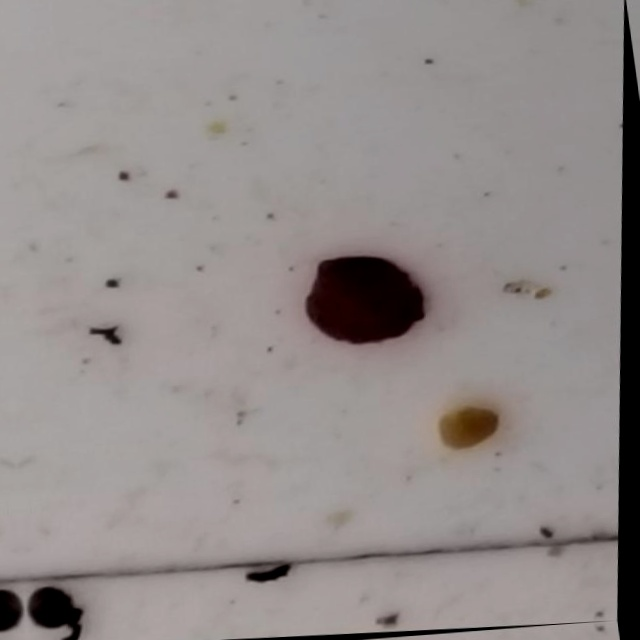varroa: (31, 585, 86, 634)
